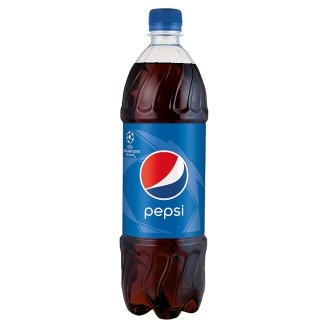pepsi: (138, 149, 187, 199)
